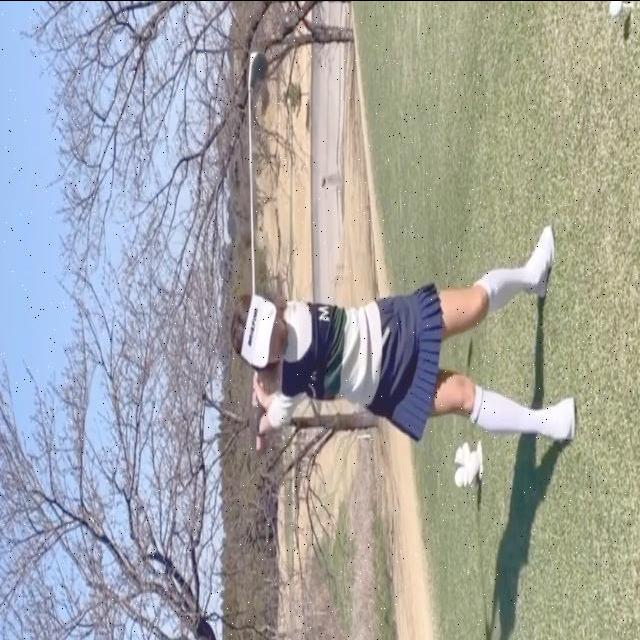golf ball: (609, 0, 623, 15)
golf club-handle: (247, 48, 269, 457)
golf club-head: (248, 49, 269, 85)
